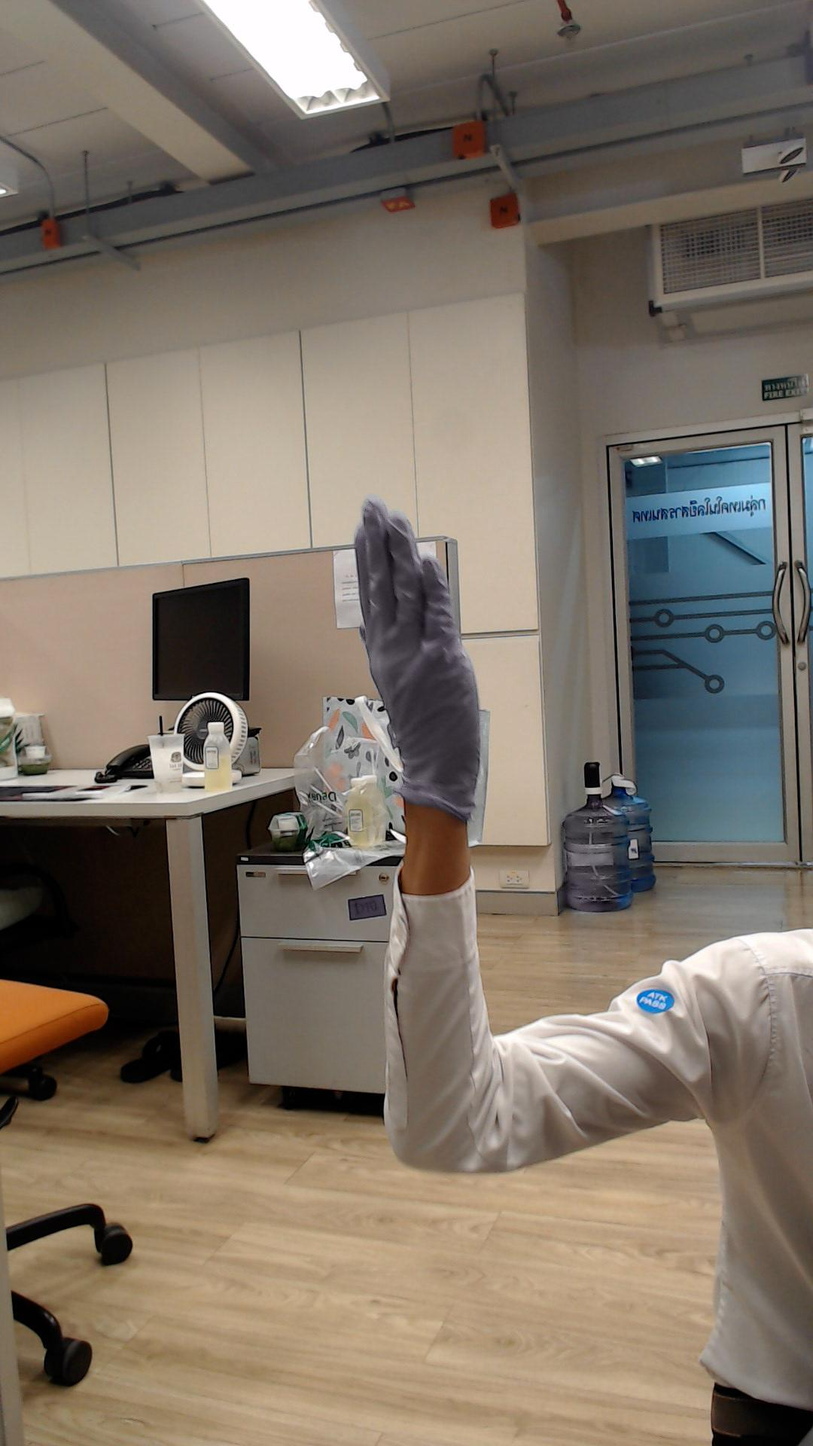gloves: (302, 482, 546, 761)
